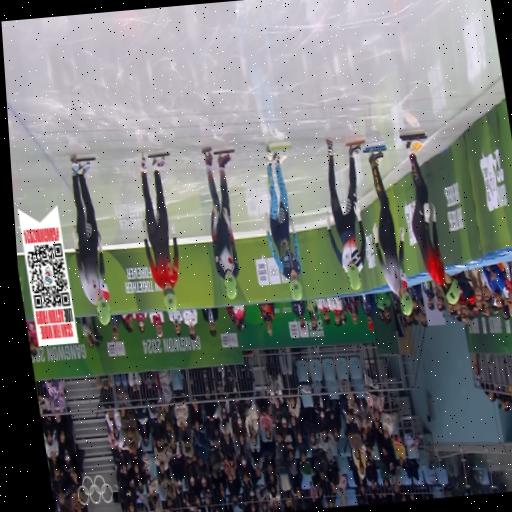Skater: (405, 136, 459, 303), (368, 148, 411, 314), (71, 159, 109, 323), (140, 156, 178, 312), (325, 140, 365, 288), (264, 147, 301, 299), (203, 149, 238, 298)
